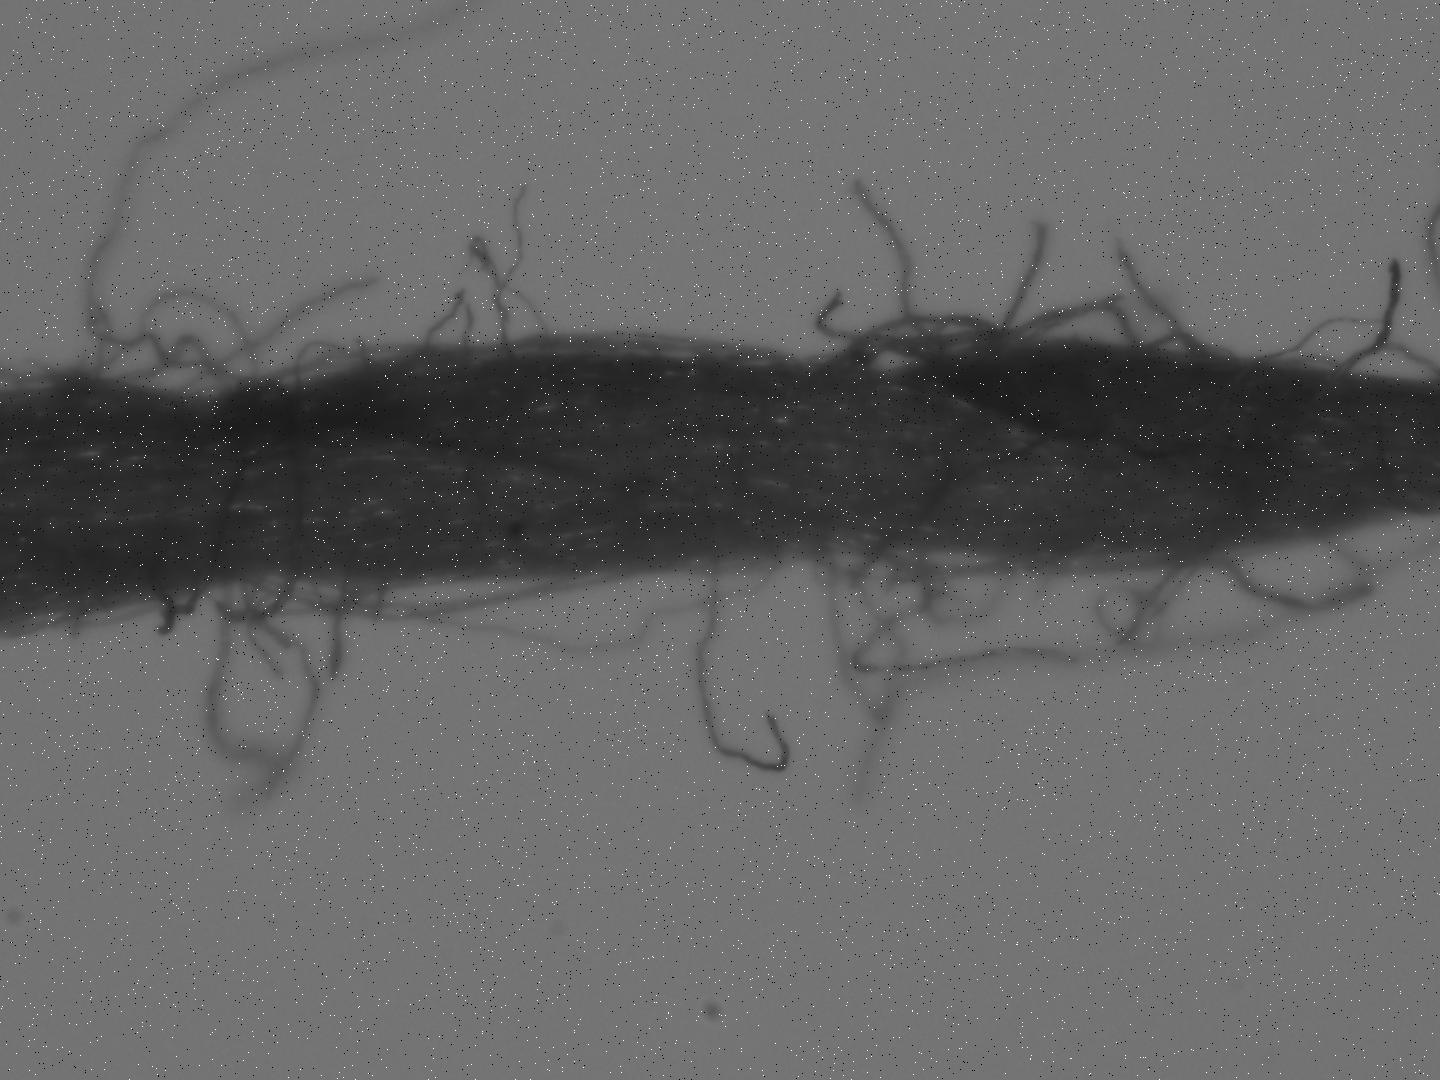loop_fiber: (811, 506, 1437, 733), (811, 251, 1439, 385), (154, 545, 793, 657), (205, 575, 321, 796), (42, 286, 259, 402), (266, 332, 389, 390)
protruding_fiber: (79, 2, 465, 382), (173, 272, 383, 395), (688, 555, 789, 770), (855, 176, 958, 362), (1108, 235, 1218, 364), (454, 228, 560, 345), (811, 288, 937, 368), (491, 174, 540, 354), (998, 213, 1047, 349), (412, 285, 464, 362), (455, 305, 477, 354)
